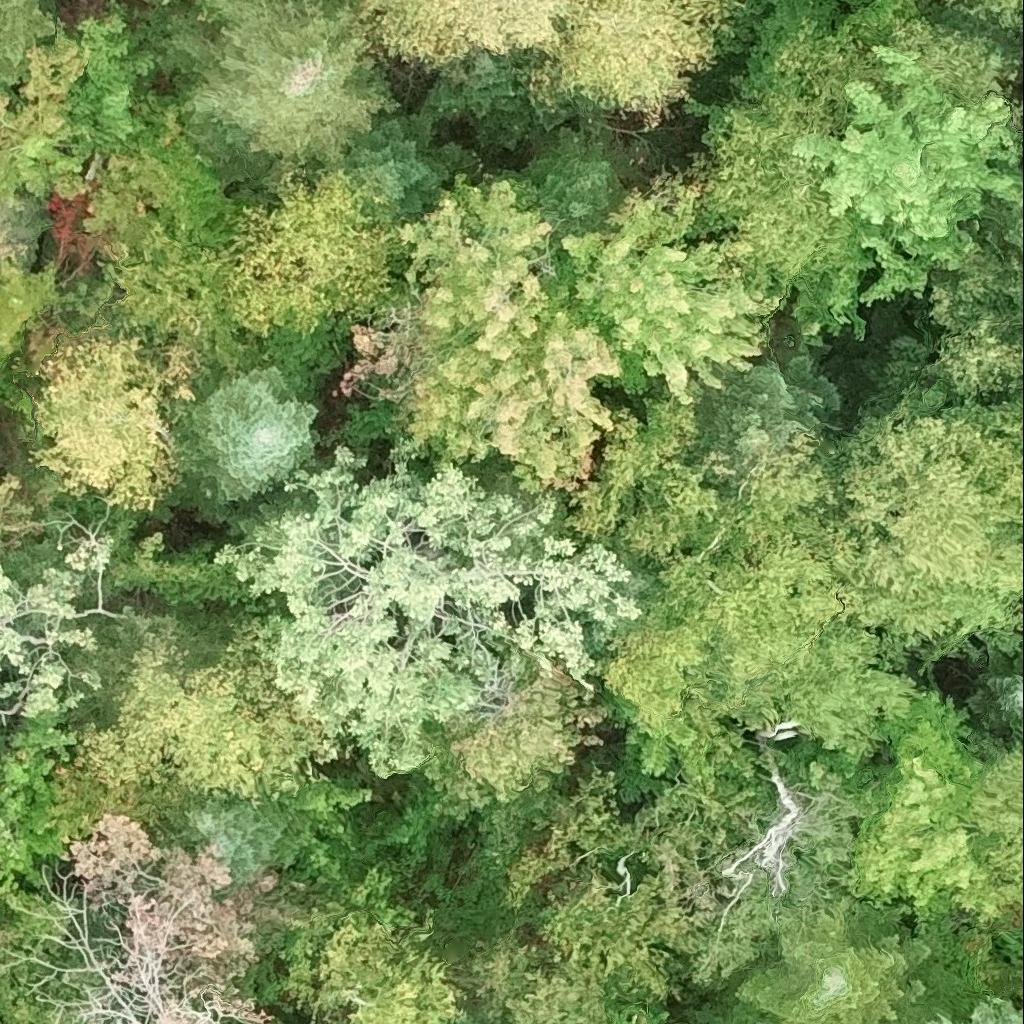crown: (215, 445, 643, 777), (589, 433, 929, 813), (823, 380, 1023, 672), (798, 46, 1023, 305), (683, 73, 880, 337), (565, 167, 782, 403), (380, 655, 611, 871), (74, 615, 339, 800), (342, 175, 560, 399), (477, 858, 721, 1023), (852, 690, 1023, 923), (403, 309, 621, 491), (164, 0, 399, 164), (724, 19, 1021, 134), (215, 167, 413, 338), (0, 0, 153, 204), (561, 376, 729, 560), (28, 326, 196, 509), (279, 862, 469, 1023), (83, 87, 248, 263), (862, 239, 1023, 418), (529, 0, 738, 126), (678, 347, 840, 499), (55, 605, 239, 732), (740, 908, 933, 1023), (501, 765, 655, 905), (181, 365, 318, 517), (0, 537, 114, 717), (97, 503, 288, 608), (99, 254, 252, 384), (226, 775, 375, 887), (508, 129, 636, 252), (361, 0, 592, 68), (428, 46, 571, 146), (341, 111, 466, 222), (167, 800, 285, 899), (0, 243, 64, 368), (971, 735, 1023, 884), (0, 0, 58, 81), (0, 472, 43, 575), (612, 560, 662, 636), (981, 650, 1023, 739), (611, 977, 673, 1023), (981, 196, 1023, 259), (932, 994, 1023, 1023), (981, 394, 1023, 449), (948, 0, 1023, 28), (997, 542, 1023, 598), (999, 467, 1023, 514), (192, 0, 222, 22), (448, 1018, 486, 1023), (160, 0, 173, 4)
